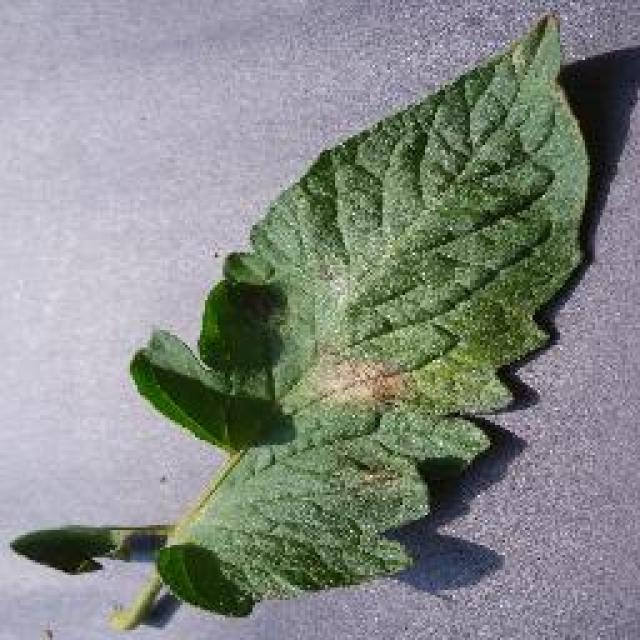Tomato_Late_Blight: (304, 316, 426, 514)
